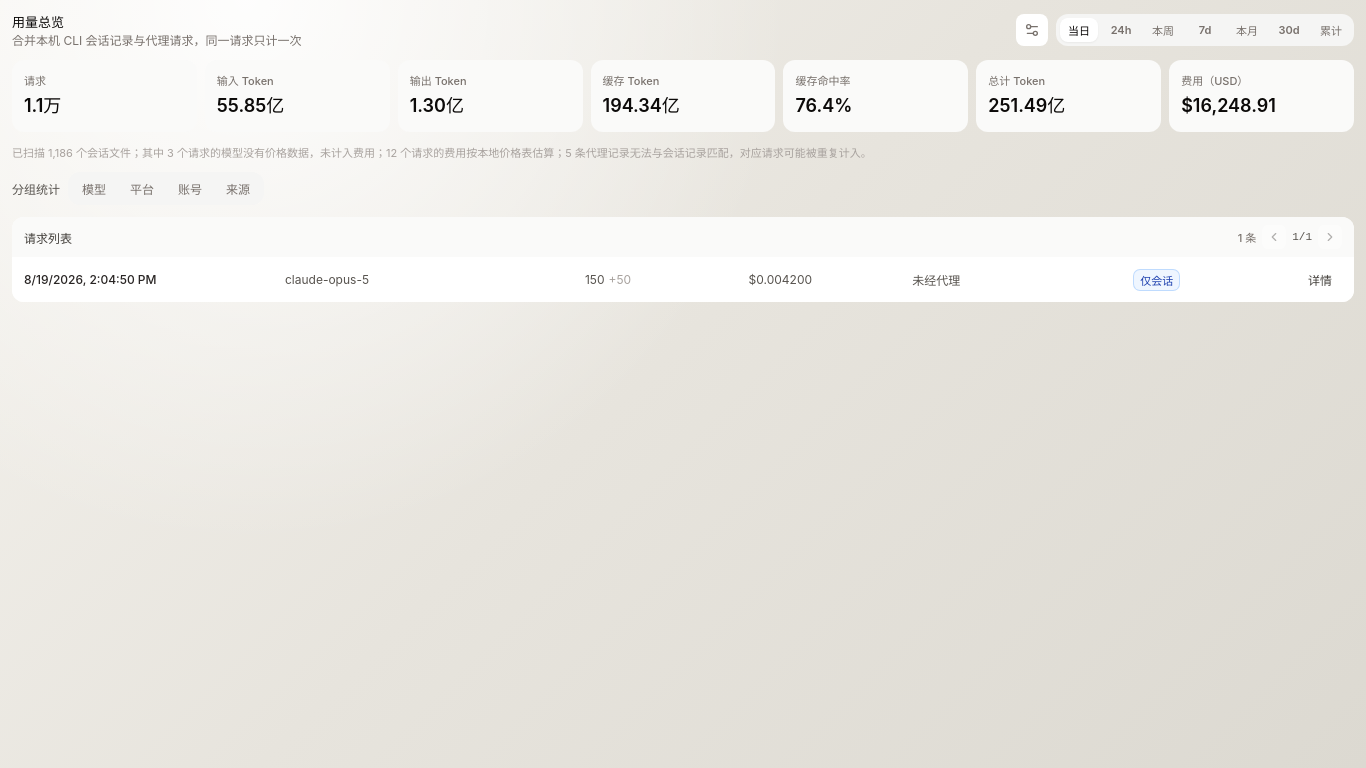
Test: UsageOverviewPanel › says why a transcript-only request has no proxy metadata
Click the button with aria-label "查看请求 row-1 详情" at (1320, 280), box [1298,267,1342,292]
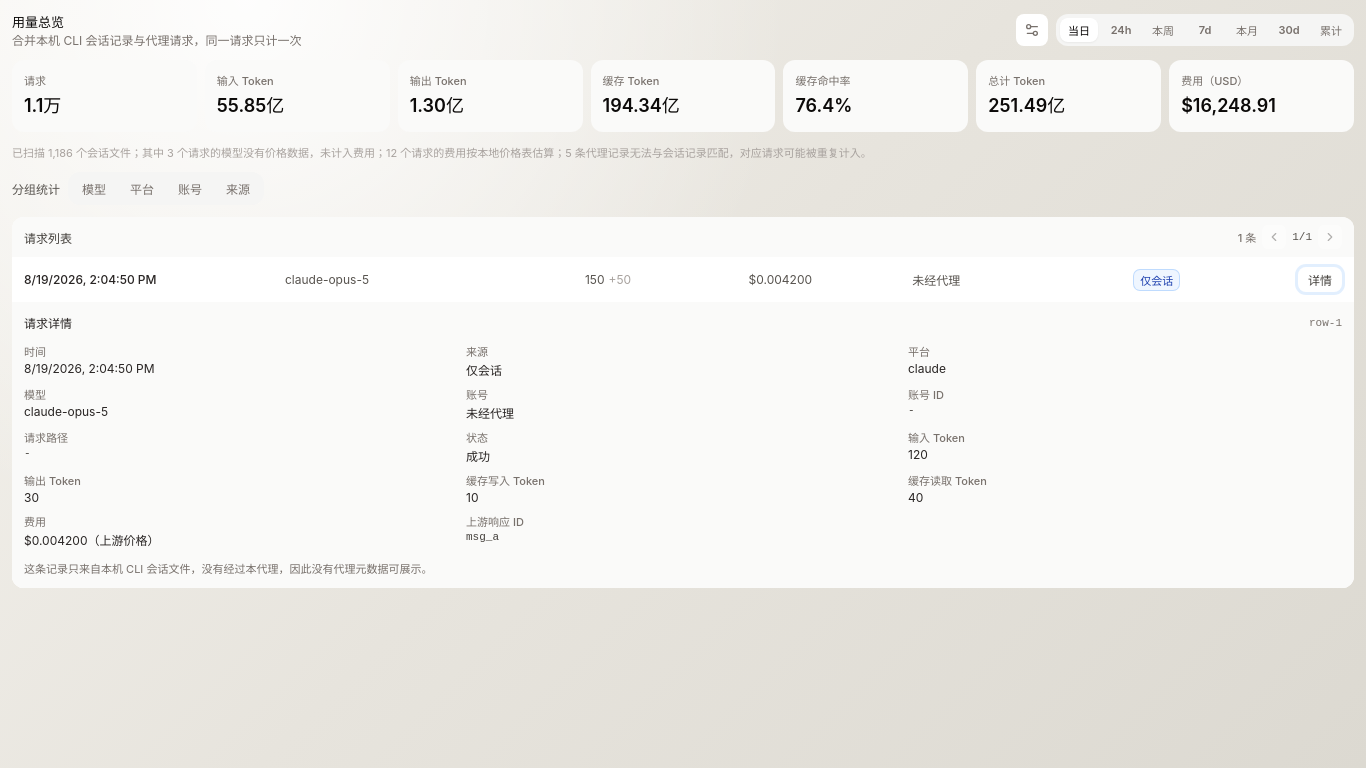
Result: the text "这条记录只来自本机 CLI 会话文件，没有经过本代理，因此没有代理元数据可展示。" is shown at [24,562,432,576]
Result: the text "成功" is shown at [466,449,490,464]
